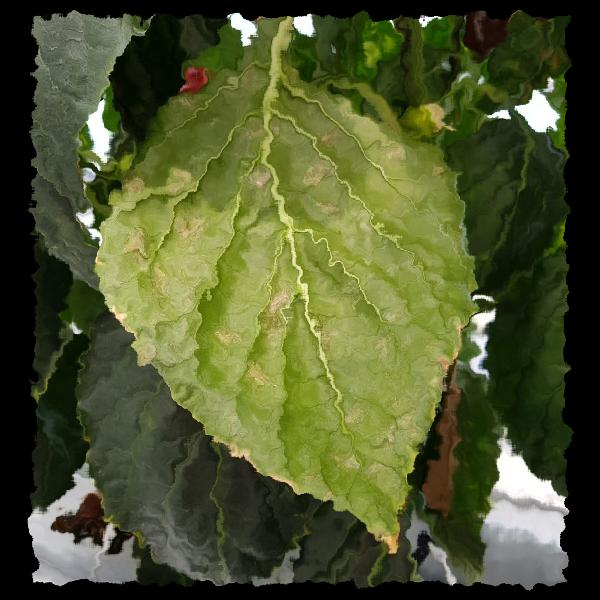powdery_mildew: (114, 66, 456, 541)
